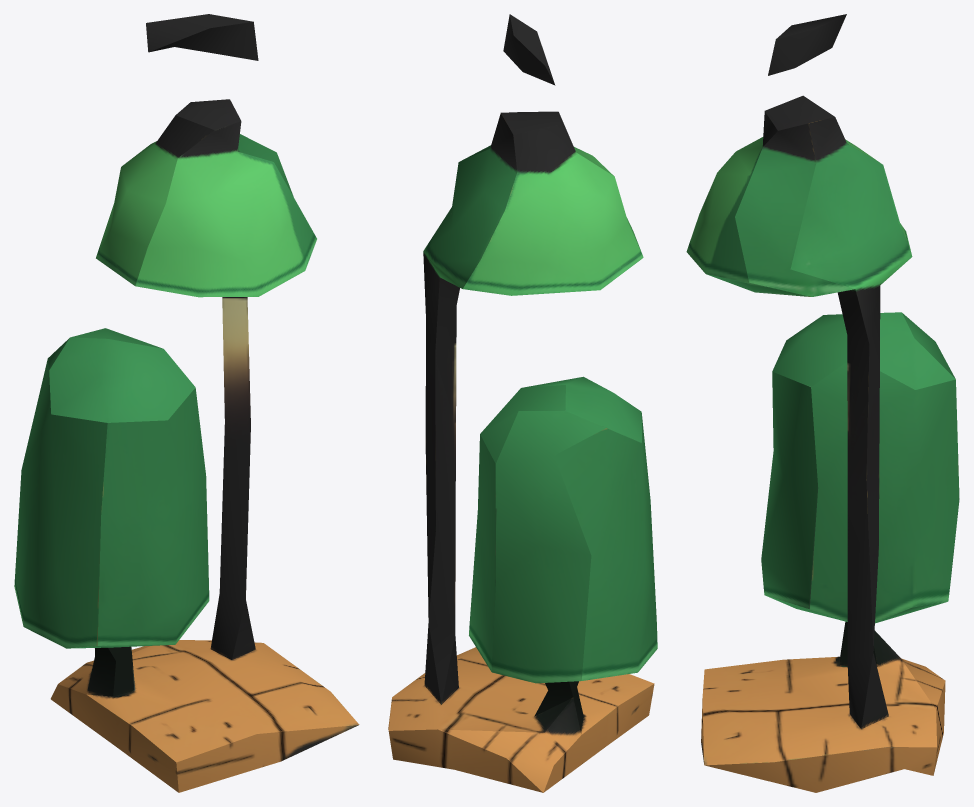
File: brickloft-enamel-pendant.glb
The picture shows the model from 3 angles, left to right: view 1: azimuth 30°, elevation 25°; view 2: azimuth 150°, elevation 25°; view 3: azimuth 270°, elevation 25°; orthographic projection. The views are drawn at different scales.
Visible parts, largest first — view 1: geometry_0; view 2: geometry_0; view 3: geometry_0.
Boxes of the visible parts, x1,y1,x2,y2 form: geometry_0: (14,14,359,792); geometry_0: (388,14,657,792); geometry_0: (686,14,959,792).
Size of the model in its own units: 0.3737 by 1 by 0.3432.
Materials: 1 (1 with a texture image).
